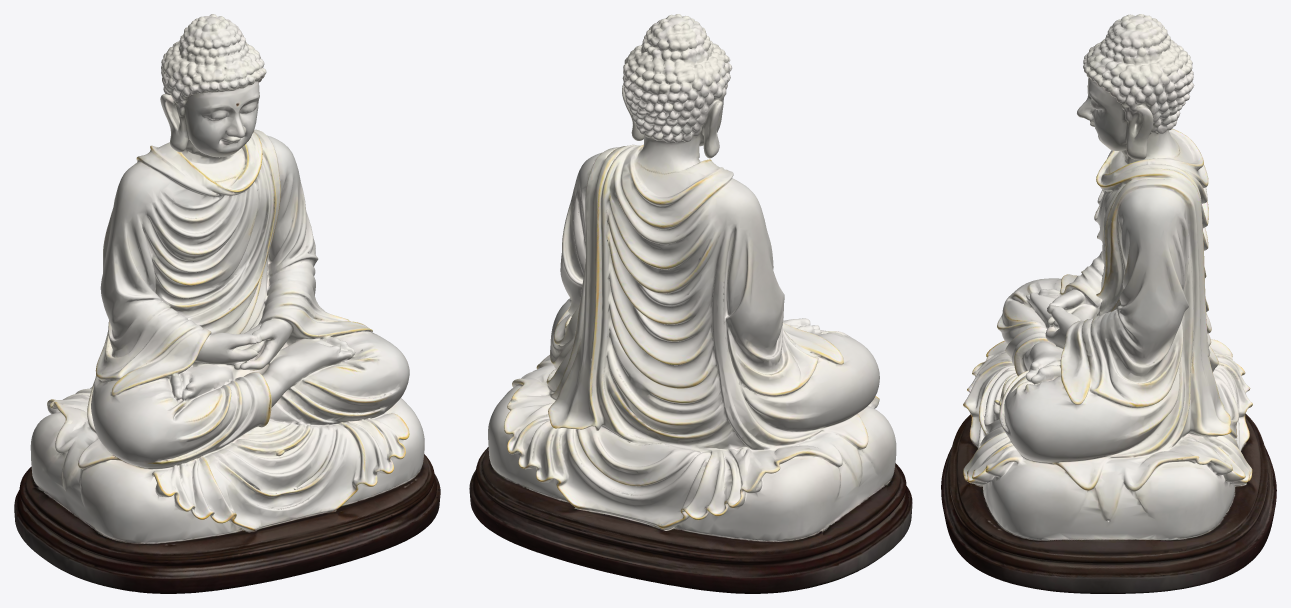
3 views of the same model, side by side, from view 1: azimuth 30°, elevation 25°; view 2: azimuth 150°, elevation 25°; view 3: azimuth 270°, elevation 25° (orthographic). The views are drawn at different scales.
Parts seen in each view (by area): view 1: four-heavenly-kings-06; view 2: four-heavenly-kings-06; view 3: four-heavenly-kings-06.
Boxes of the visible parts, x1,y1,x2,y2 form: four-heavenly-kings-06: (14, 14, 440, 593); four-heavenly-kings-06: (469, 14, 912, 593); four-heavenly-kings-06: (941, 14, 1276, 593).
Size of the model in its own units: 0.7997 by 0.9999 by 0.6256.
Materials: 1 (1 with a texture image).
